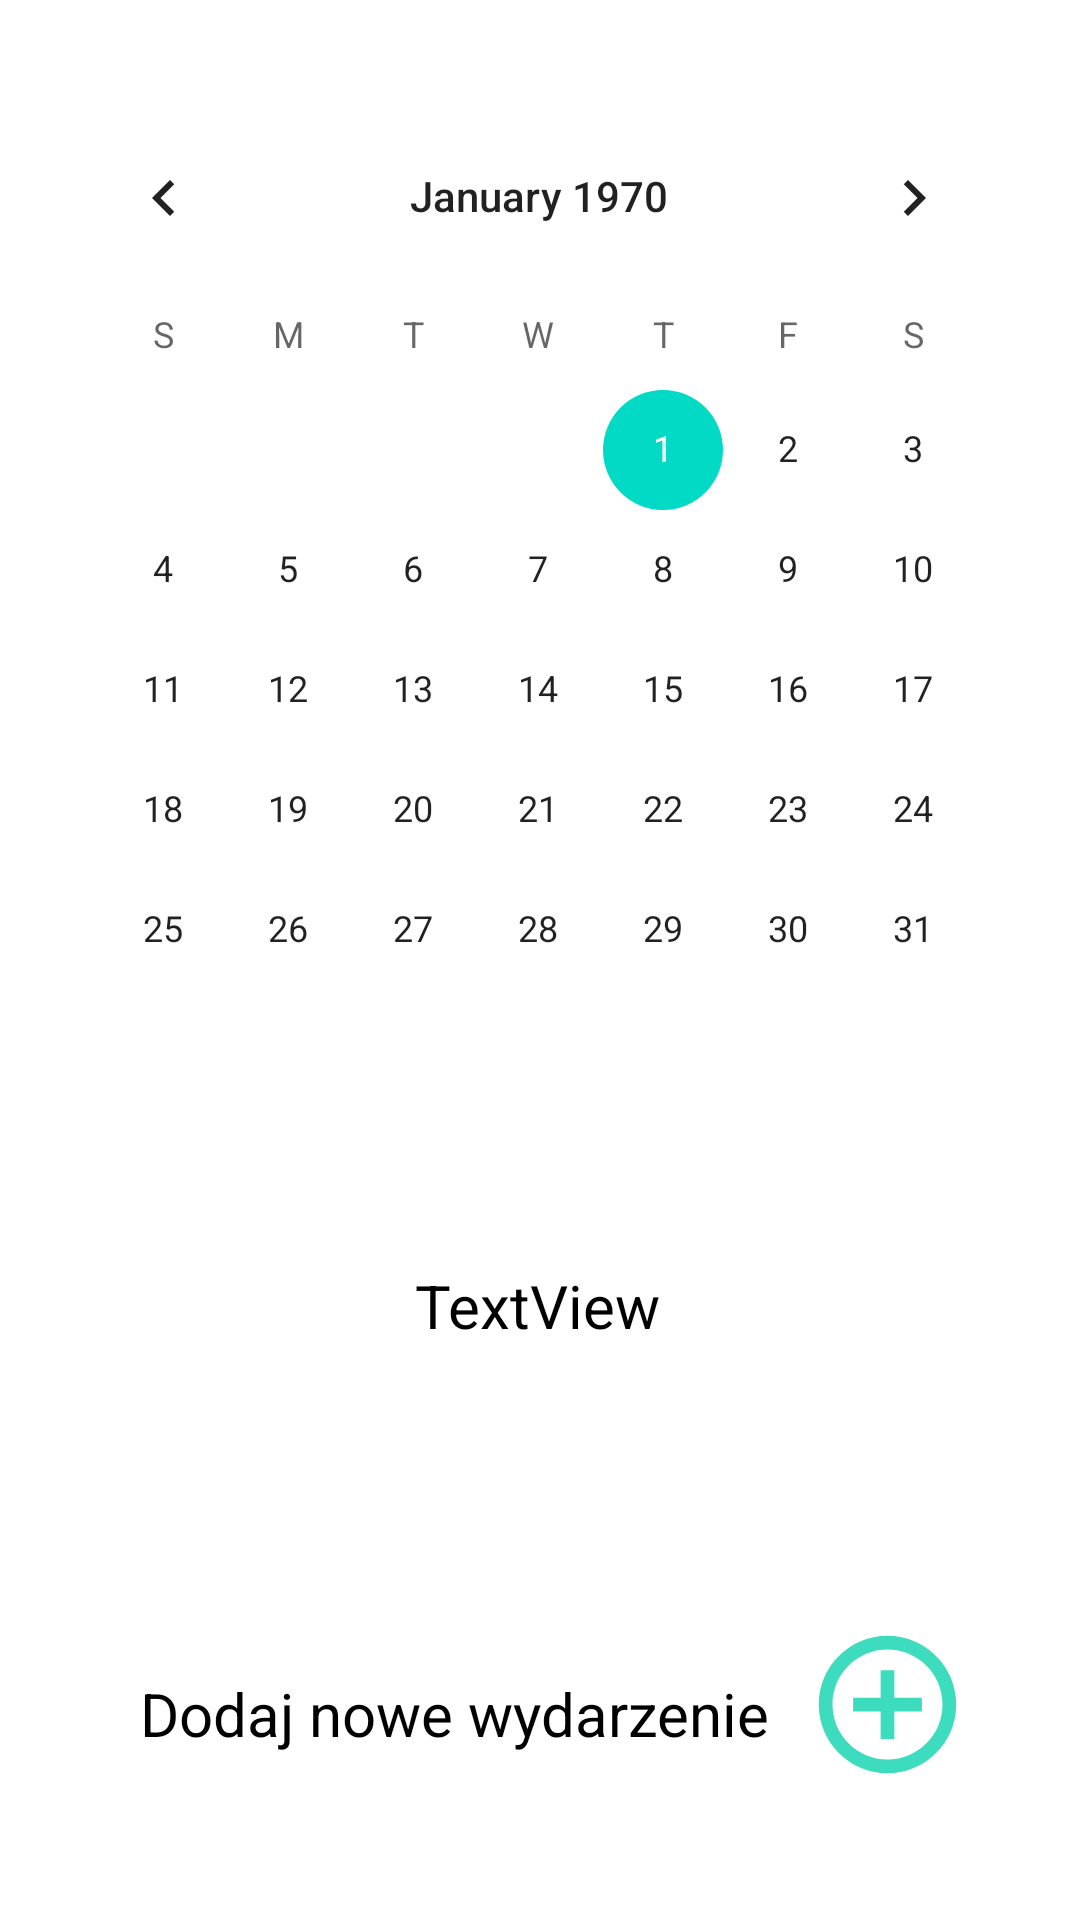

Icon bounding boxes for this 1080 × 1920 phone screenshot, format (x1, y1, x2, y2):
add circle: (818, 1635, 957, 1774)
